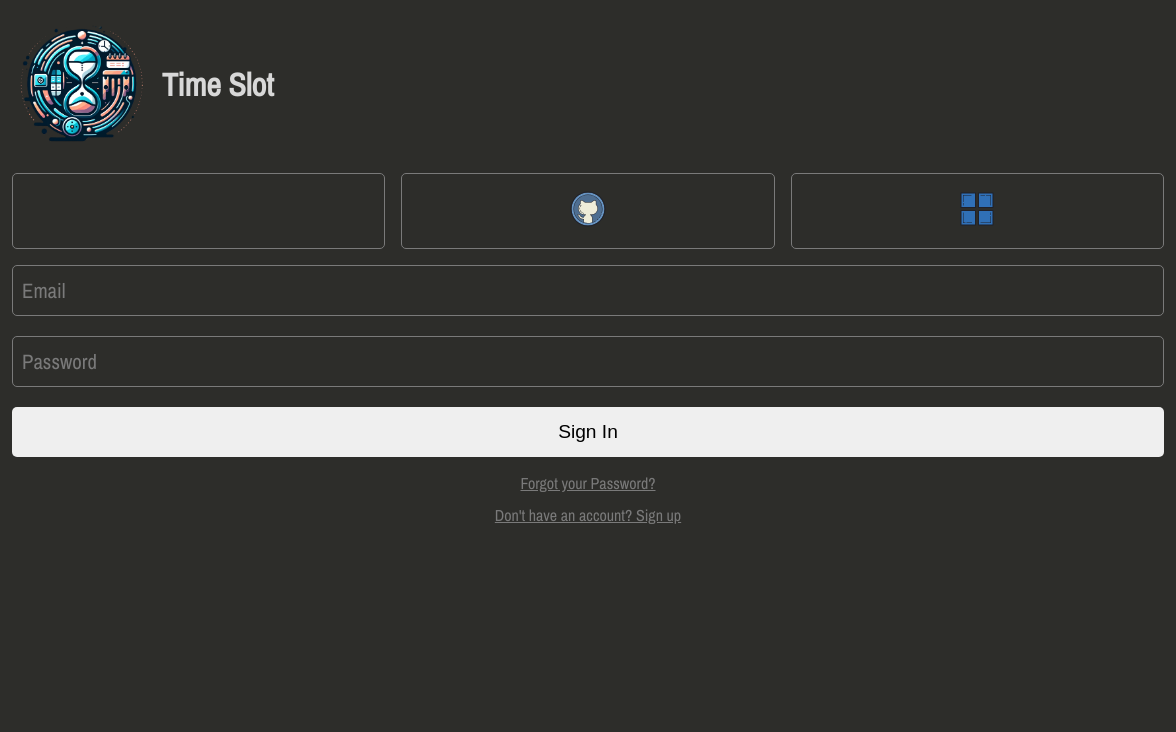
Login Component › displays an error when login fails
Note: Fill out the form
Type "test@example.com" into the field labelled "Email" at (588, 290), box [12,265,1164,316]
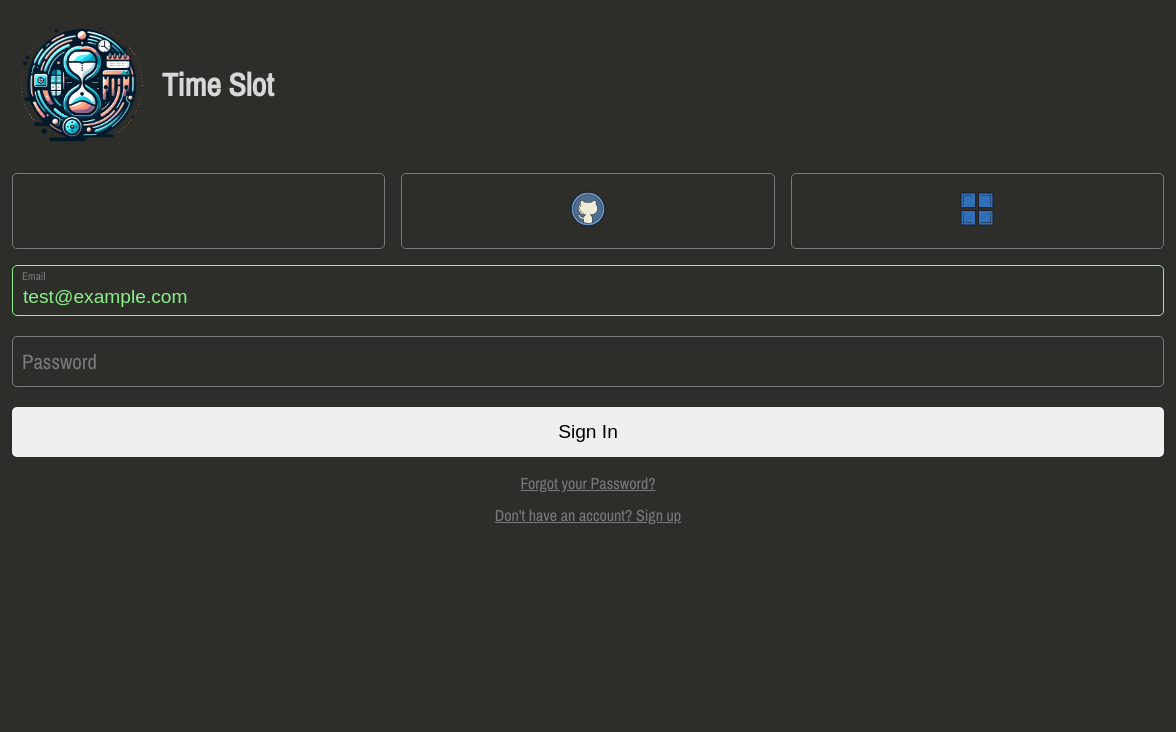
Type "password123" into the password field at (588, 361), box [12,336,1164,387]
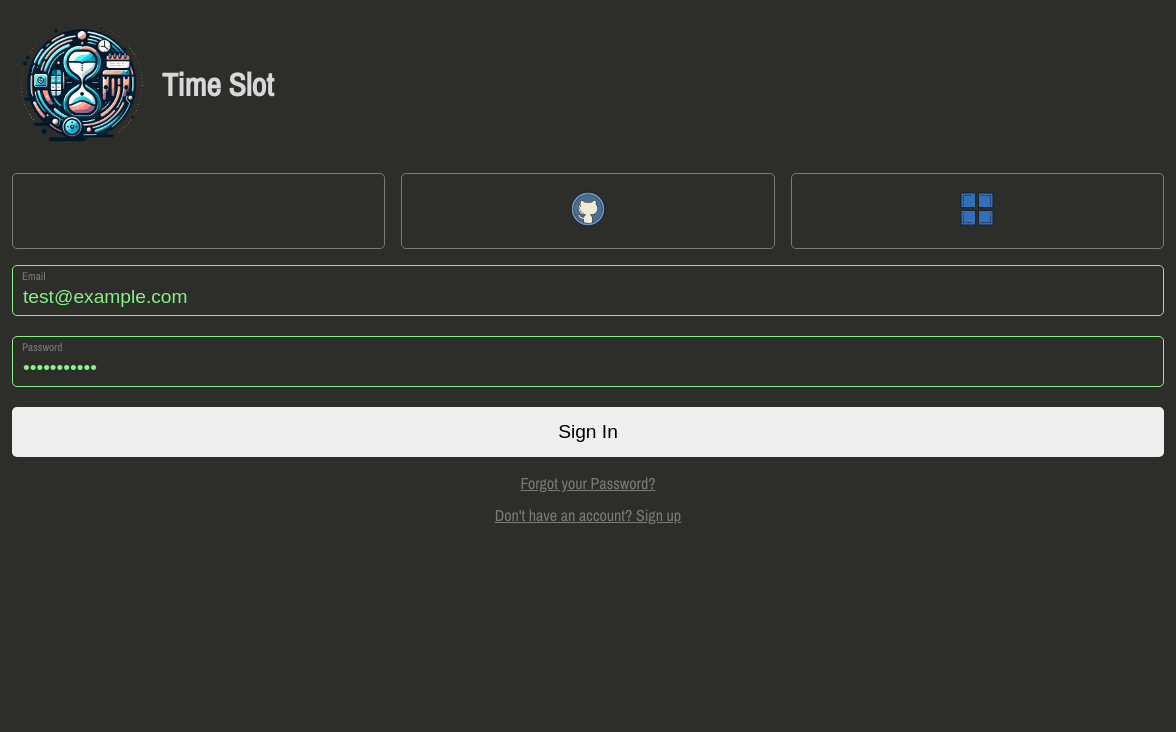
Note: Submit the form
Click the button "Sign In" at (588, 432), box [12,407,1164,457]
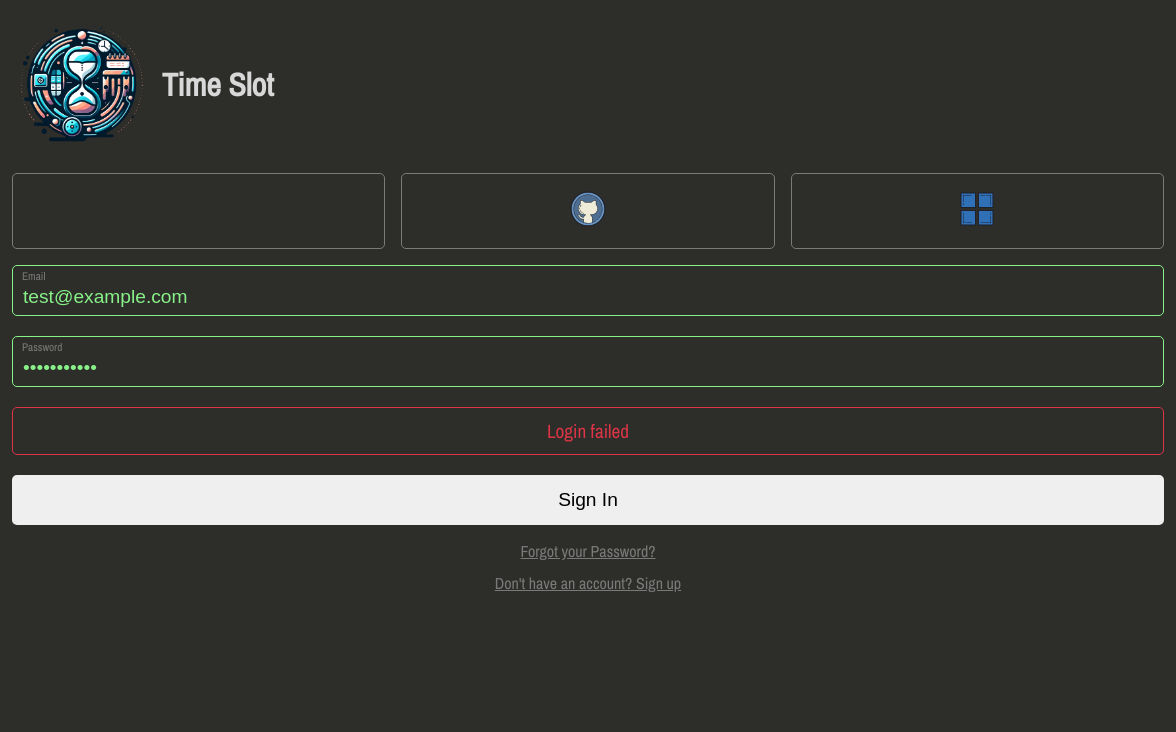
Expected: the text "Login failed" is shown, [12,407,1164,455]
